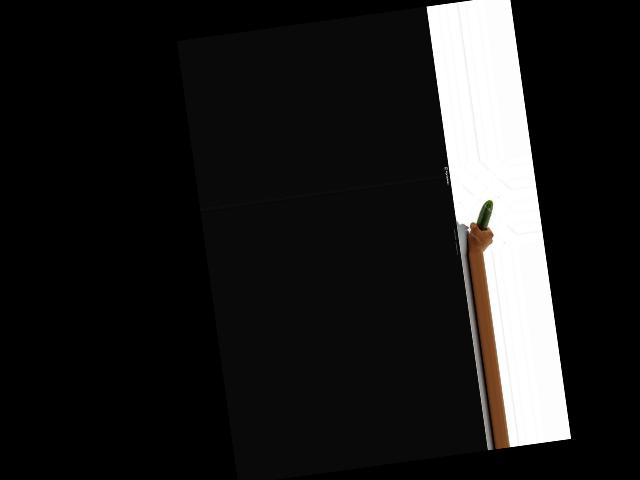cucumber: (473, 200, 496, 231)
